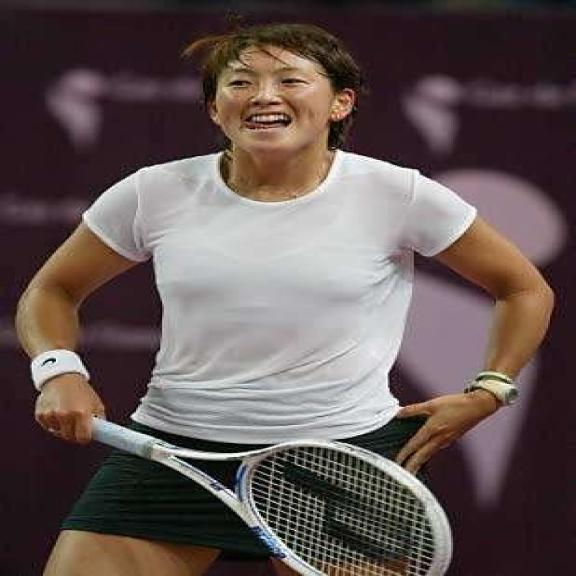face: (202, 26, 358, 161)
